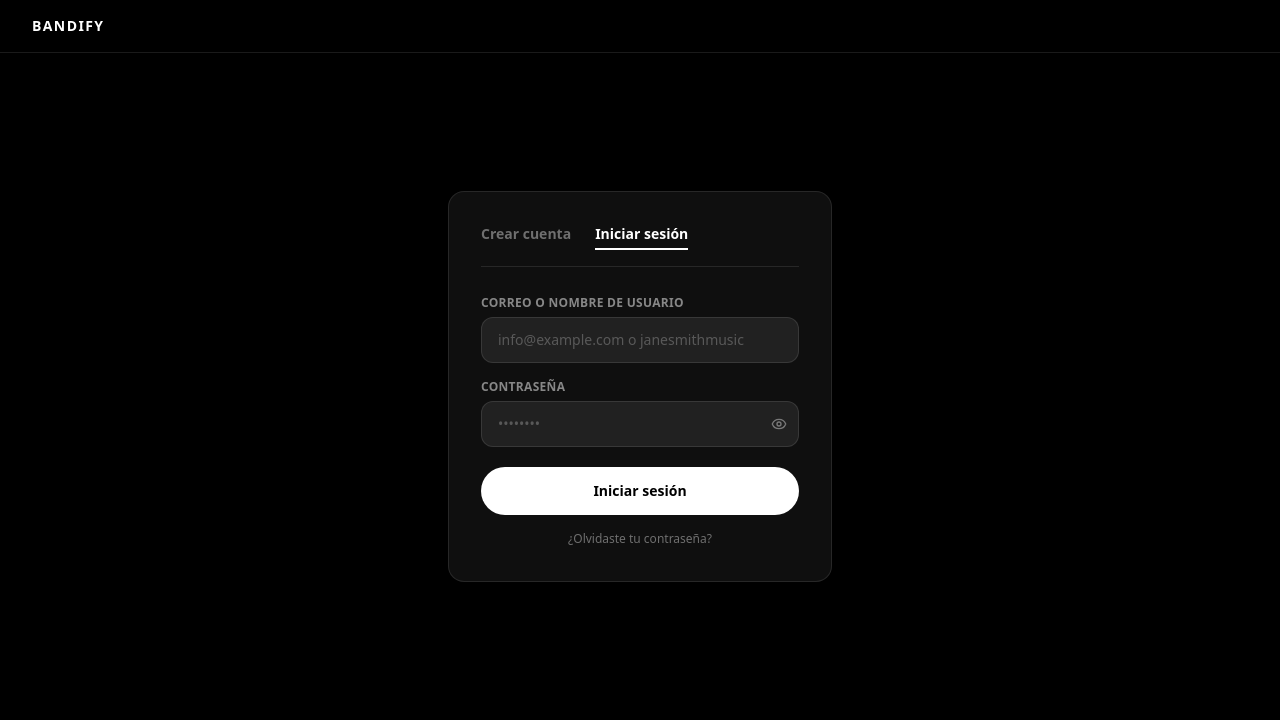
Auth — recuperar / restablecer contraseña › solicita el enlace de recuperación y muestra la confirmación de envío
The image size is (1280, 720).
Click the button "¿Olvidaste tu contraseña?": (640, 539) 481,531 -> 799,547
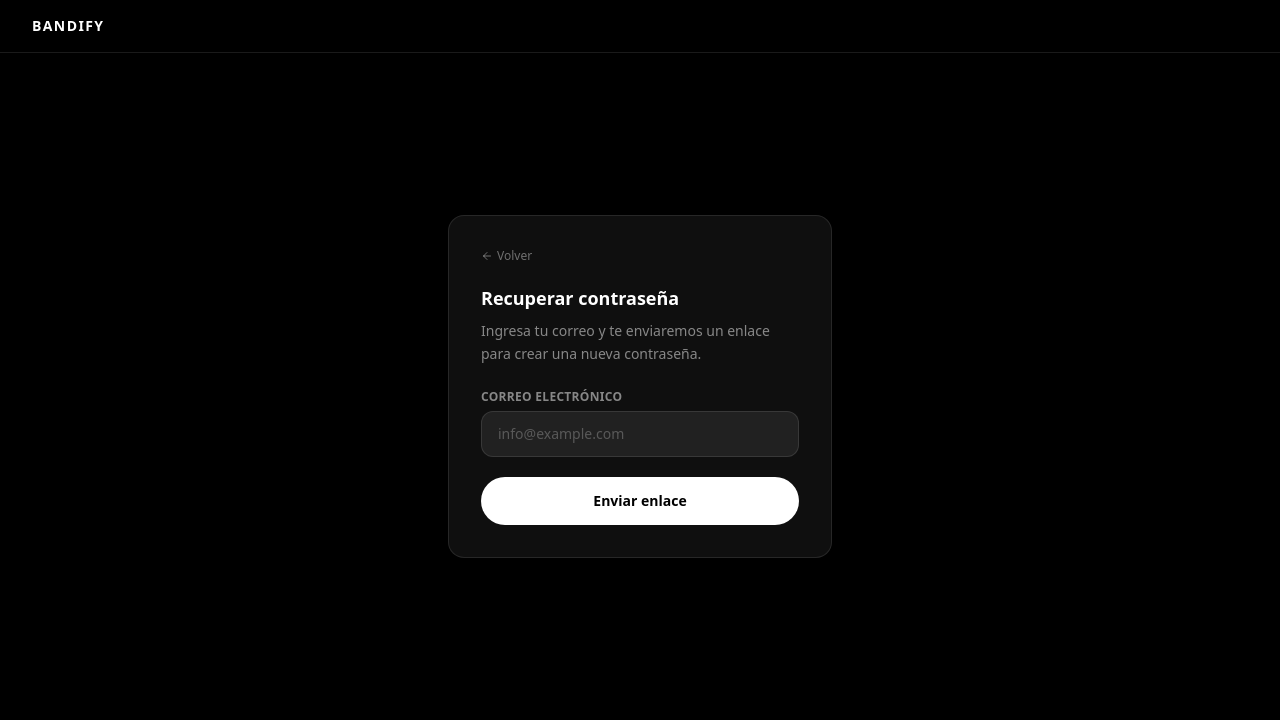
Check: the heading "Recuperar contraseña" is shown, box 481,286 -> 679,310
In the field named "email": (640, 434) 481,411 -> 799,457, type "ana@test.cl"
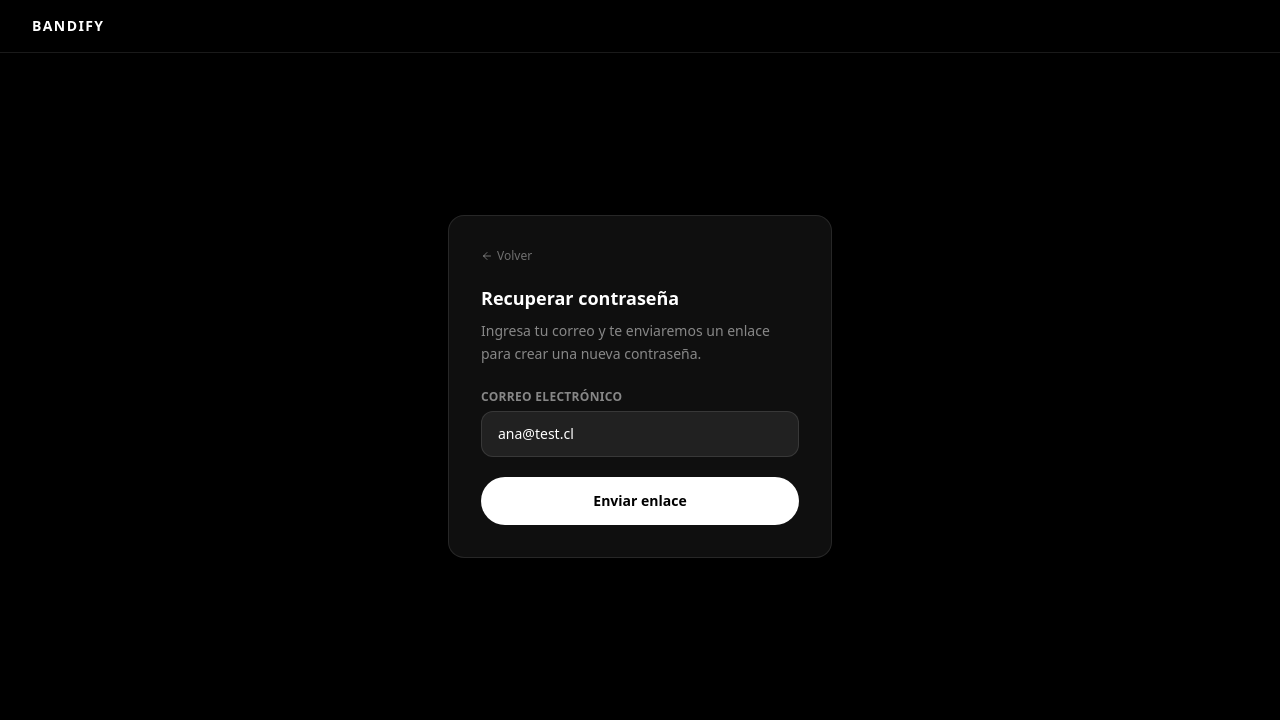
Click the submit button: (640, 501) 481,477 -> 799,525
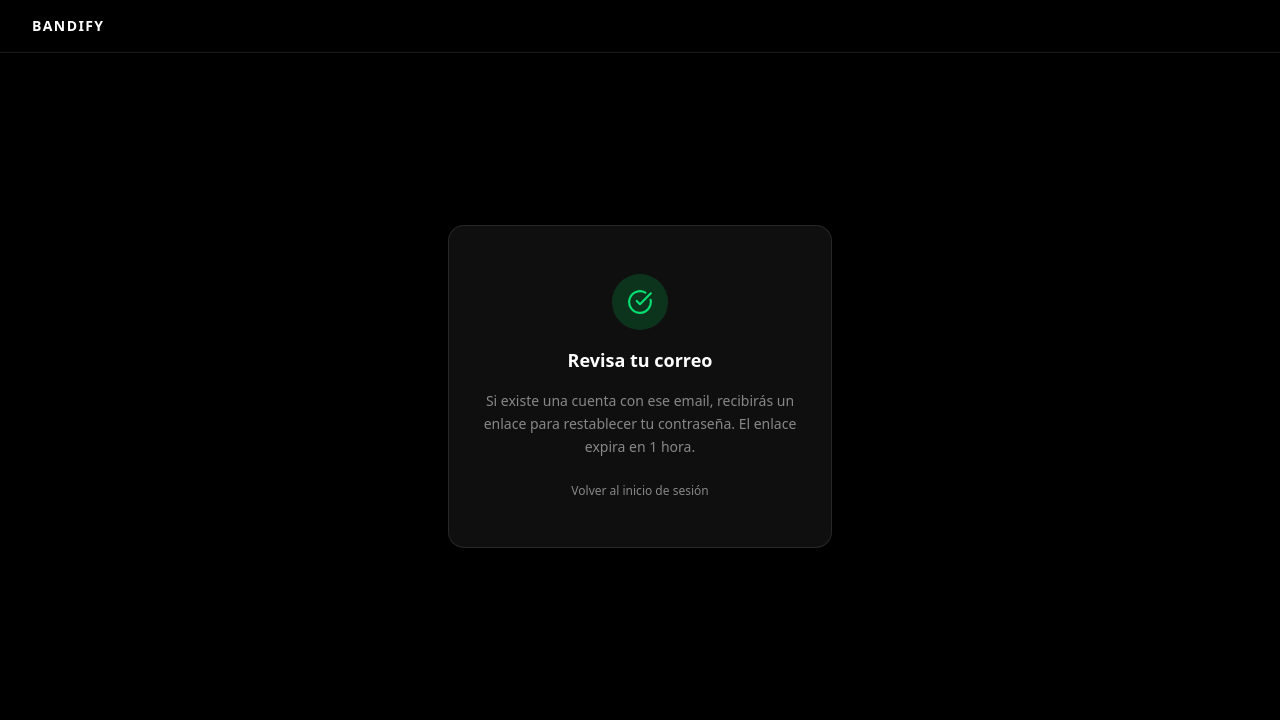
Check: the heading "Revisa tu correo" is shown, box 568,346 -> 712,374
